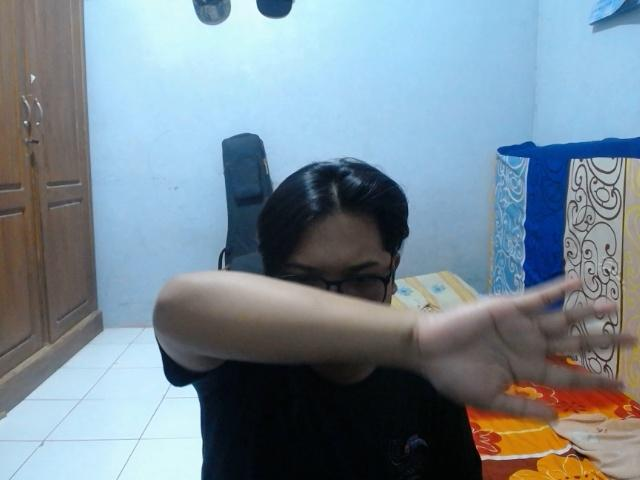Release: (418, 269, 640, 427)
